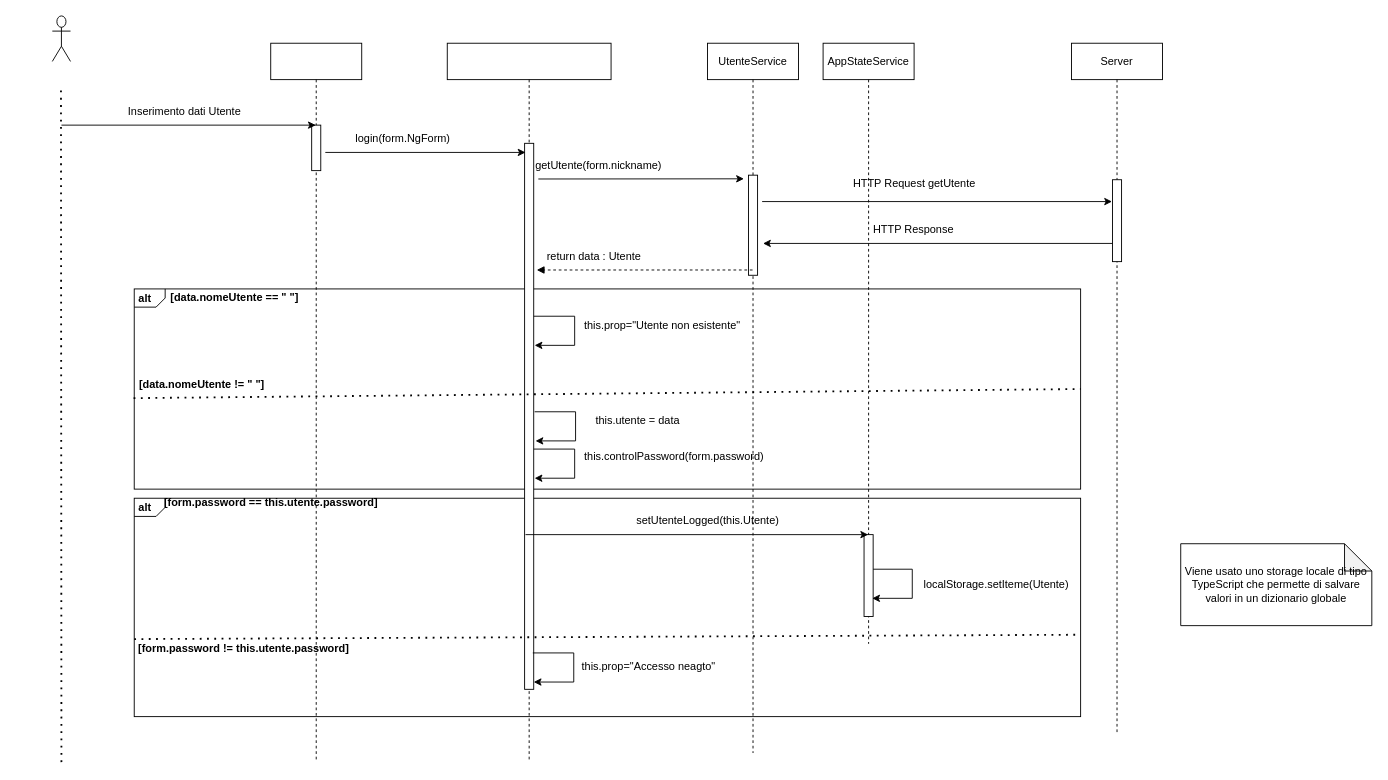
Some shapes in this 1388 by 780 pixel diagram are drawn without their labels. Each missing label, with the box of its shape:
Client GUI: (270, 42, 362, 762)
LoginComponent: (446, 42, 611, 762)
Utente non loggato: (51, 15, 71, 61)
